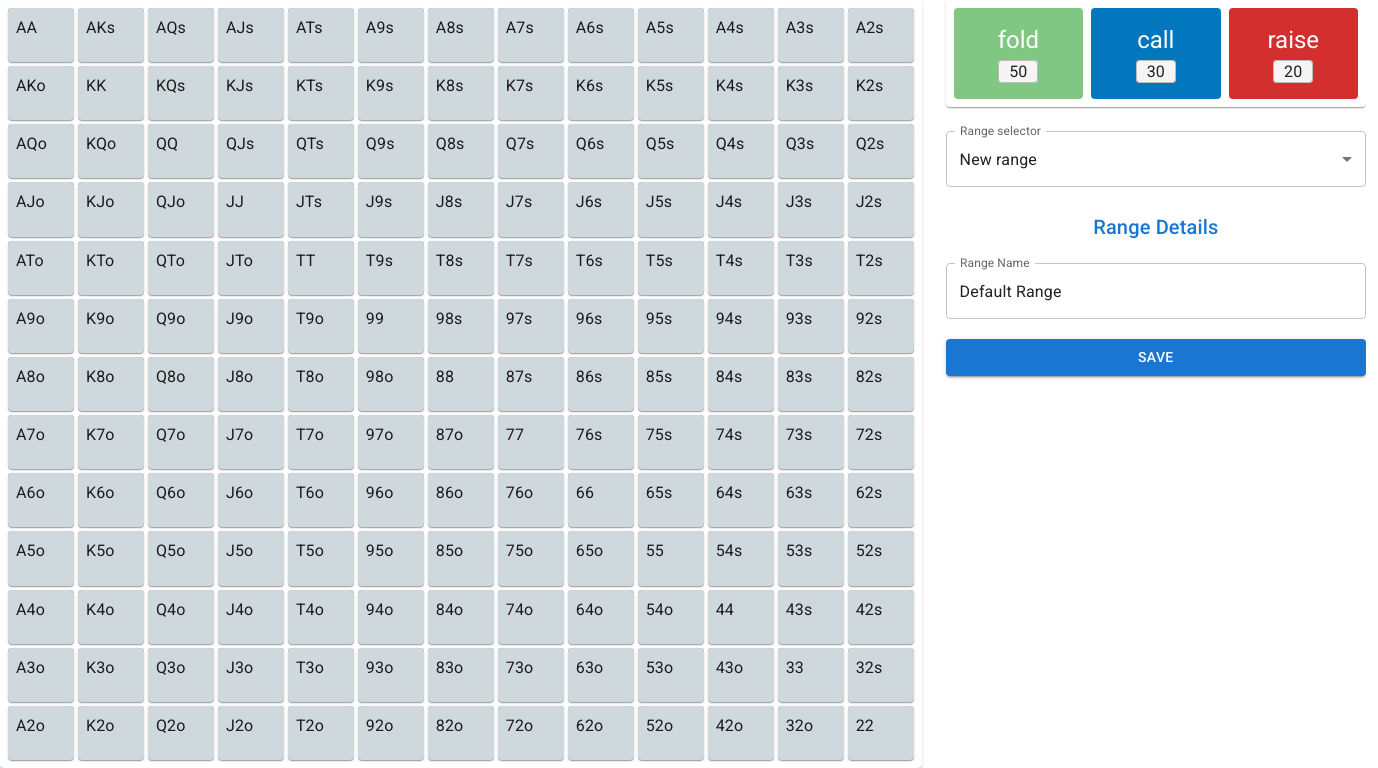
Test case: RangeBuilder › should update range when name changes
Note: Find the name input by label (Range Name)
Type "Updated Name" into the field labelled "Range Name" at (1156, 291), box [946, 263, 1366, 319]
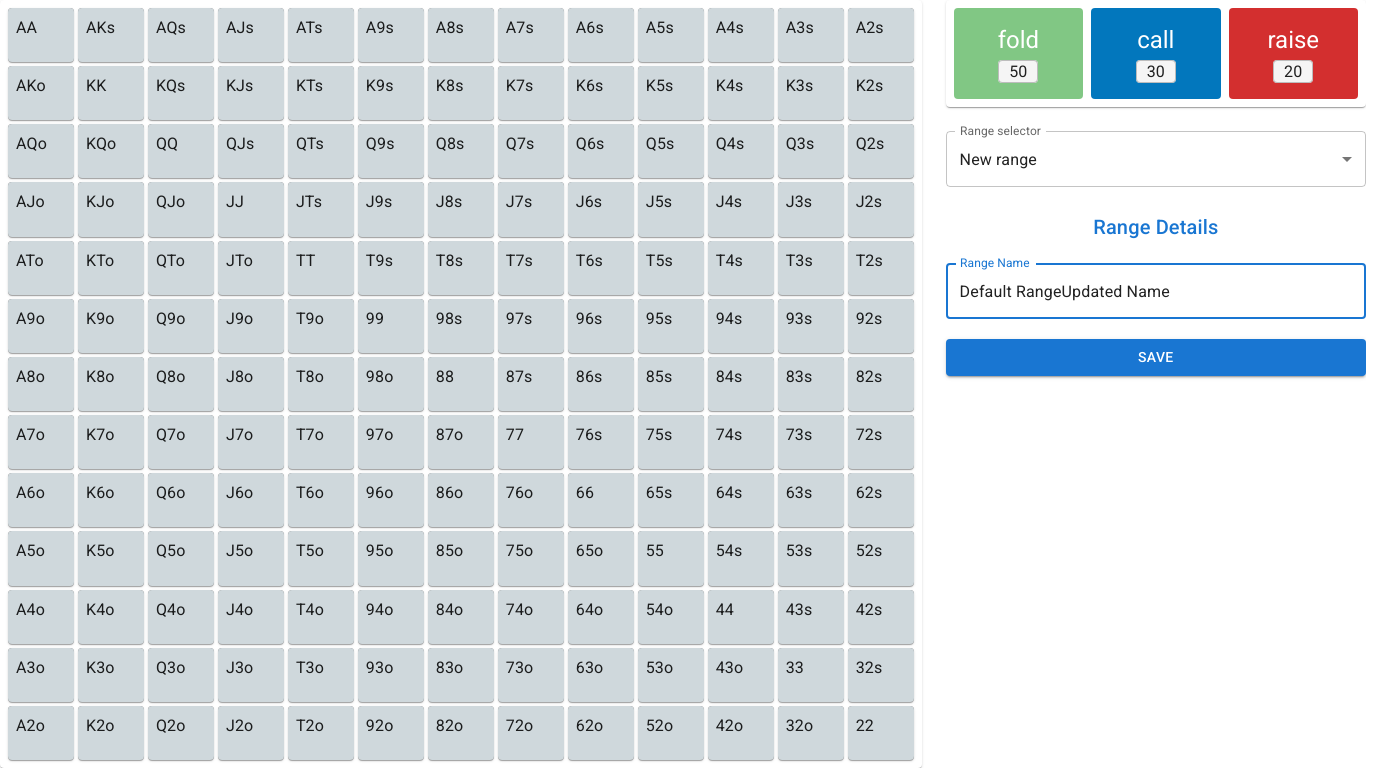
Expected: the field labelled "Range Name" does not hold "Default Range", [946, 263, 1366, 319]
